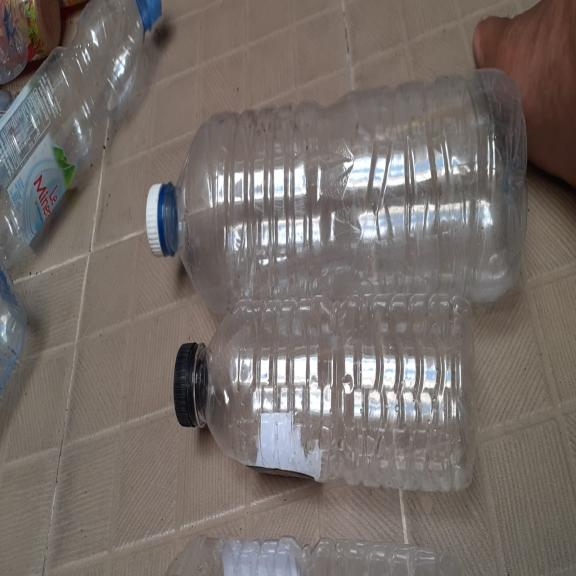Plastik: (144, 60, 530, 331), (173, 298, 478, 506), (0, 0, 164, 274), (161, 532, 467, 576), (0, 270, 28, 415)
